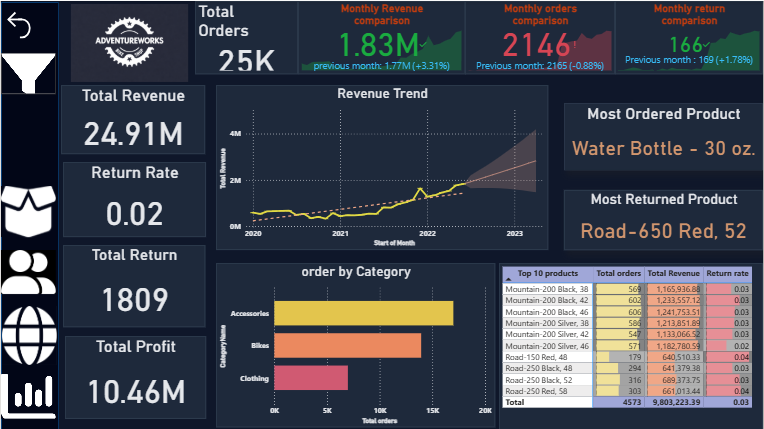

The dashboard page shown, as its layout file describes it:
{"tool":"powerbi","page":{"name":"executive dashboard","canvas":[1280,720],"ordinal":3},"visuals":[{"type":"lineChart","title":"Revenue Trend","fields":{"Category":["Calendar Lookup.Custom Date Hierarchy.Start of Month","Calendar Lookup.Custom Date Hierarchy.Start of Quarter","Calendar Lookup.Custom Date Hierarchy.Start of Week","Calendar Lookup.Custom Date Hierarchy.Start of Year"],"Y":["Measure table.Total Revenue"]},"box":[361.2,141.1,557.7,277.2],"z":0},{"type":"shape","box":[0,1.7,97.4,719],"z":1000},{"type":"clusteredBarChart","title":" order by Category","fields":{"Category":["Product Categories Lookup.CategoryName"],"Y":["Measure table.Total orders"]},"box":[361.4,440.8,469.1,276.4],"z":2000},{"type":"pivotTable","fields":{"Rows":["Product Lookup.ProductName"],"Values":["Measure table.Total orders","Measure table.Total Revenue","Measure table.Return rate"]},"box":[836.5,440.1,443.5,280.5],"z":3000},{"type":"card","title":"Total Revenue","fields":{"Values":["Measure table.Total Revenue"]},"box":[100.8,141.1,241.9,115.9],"z":4000},{"type":"card","title":"Total Orders","fields":{"Values":["Measure table.Total orders"]},"box":[325.9,0,173,122.6],"z":5000},{"type":"card","title":"Total Return","fields":{"Values":["Measure table.Total returns"]},"box":[104.1,409.9,238.5,137.7],"z":6000},{"type":"card","title":"Total Profit","fields":{"Values":["Measure table.Total Profit"]},"box":[107.5,562.7,236.9,139.4],"z":7000},{"type":"card","title":"Return Rate","fields":{"Values":["Measure table.Return rate"]},"box":[104.1,270.4,240.2,126],"z":8000},{"type":"card","title":"Most Ordered Product","fields":{"Values":["Min(Product Lookup.ProductName)"]},"box":[945.7,171.3,334.3,112.5],"z":9000},{"type":"card","title":"Most Returned Product","fields":{"Values":["Min(Product Lookup.ProductName)"]},"box":[945.7,317.5,334.3,100.8],"z":10000},{"type":"kpi","title":"Monthly return comparison","fields":{"Goal":["Measure table.Previous month return"],"Indicator":["Measure table.Total returns"],"TrendLine":["Calendar Lookup.Start of Month"]},"box":[1031.4,0,248.6,122.6],"z":11000},{"type":"kpi","title":"Monthly Revenue comparison","fields":{"Goal":["Measure table.Previous month revenue"],"Indicator":["Measure table.Total Revenue"],"TrendLine":["Calendar Lookup.Start of Month"]},"box":[498.9,0,280.5,122.6],"z":12000},{"type":"kpi","title":"Monthly orders comparison","fields":{"Goal":["Measure table.previous month orders"],"Indicator":["Measure table.Total orders"],"TrendLine":["Calendar Lookup.Start of Month"]},"box":[779.4,0,252,122.6],"z":13000},{"type":"image","box":[99.1,0,226.8,122.6],"z":14000},{"type":"actionButton","box":[0,627.2,92.3,75.2],"z":15000},{"type":"actionButton","box":[0,525.8,92.4,85.7],"z":16000},{"type":"actionButton","box":[0,409.9,92.4,99.1],"z":17000},{"type":"actionButton","box":[0,310.8,92.4,68.9],"z":19000},{"type":"actionButton","box":[1.8,11.1,99.9,57.3],"z":21000}]}

Visuals, with their boxes on the page's 1280x720 design canvas (x1, y1, x2, y2). These are canvas units, not pixel positions in the 764x429 screenshot, which may show the page scaled, cropped or inside an application window:
"Revenue Trend" lineChart: {"left": 361, "top": 141, "right": 919, "bottom": 418}
shape: {"left": 0, "top": 2, "right": 97, "bottom": 721}
" order by Category" clusteredBarChart: {"left": 361, "top": 441, "right": 830, "bottom": 717}
pivotTable - Product Lookup.ProductName x Measure table.Total orders: {"left": 836, "top": 440, "right": 1280, "bottom": 721}
"Total Revenue" card: {"left": 101, "top": 141, "right": 343, "bottom": 257}
"Total Orders" card: {"left": 326, "top": 0, "right": 499, "bottom": 123}
"Total Return" card: {"left": 104, "top": 410, "right": 343, "bottom": 548}
"Total Profit" card: {"left": 108, "top": 563, "right": 344, "bottom": 702}
"Return Rate" card: {"left": 104, "top": 270, "right": 344, "bottom": 396}
"Most Ordered Product" card: {"left": 946, "top": 171, "right": 1280, "bottom": 284}
"Most Returned Product" card: {"left": 946, "top": 318, "right": 1280, "bottom": 418}
"Monthly return comparison" kpi: {"left": 1031, "top": 0, "right": 1280, "bottom": 123}
"Monthly Revenue comparison" kpi: {"left": 499, "top": 0, "right": 779, "bottom": 123}
"Monthly orders comparison" kpi: {"left": 779, "top": 0, "right": 1031, "bottom": 123}
image: {"left": 99, "top": 0, "right": 326, "bottom": 123}
actionButton: {"left": 0, "top": 627, "right": 92, "bottom": 702}
actionButton: {"left": 0, "top": 526, "right": 92, "bottom": 612}
actionButton: {"left": 0, "top": 410, "right": 92, "bottom": 509}
actionButton: {"left": 0, "top": 311, "right": 92, "bottom": 380}
actionButton: {"left": 2, "top": 11, "right": 102, "bottom": 68}
